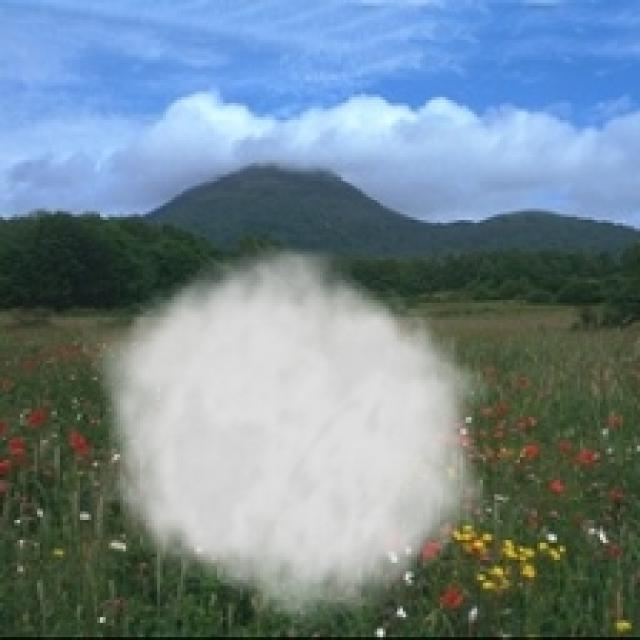smoke: (83, 234, 491, 637)
